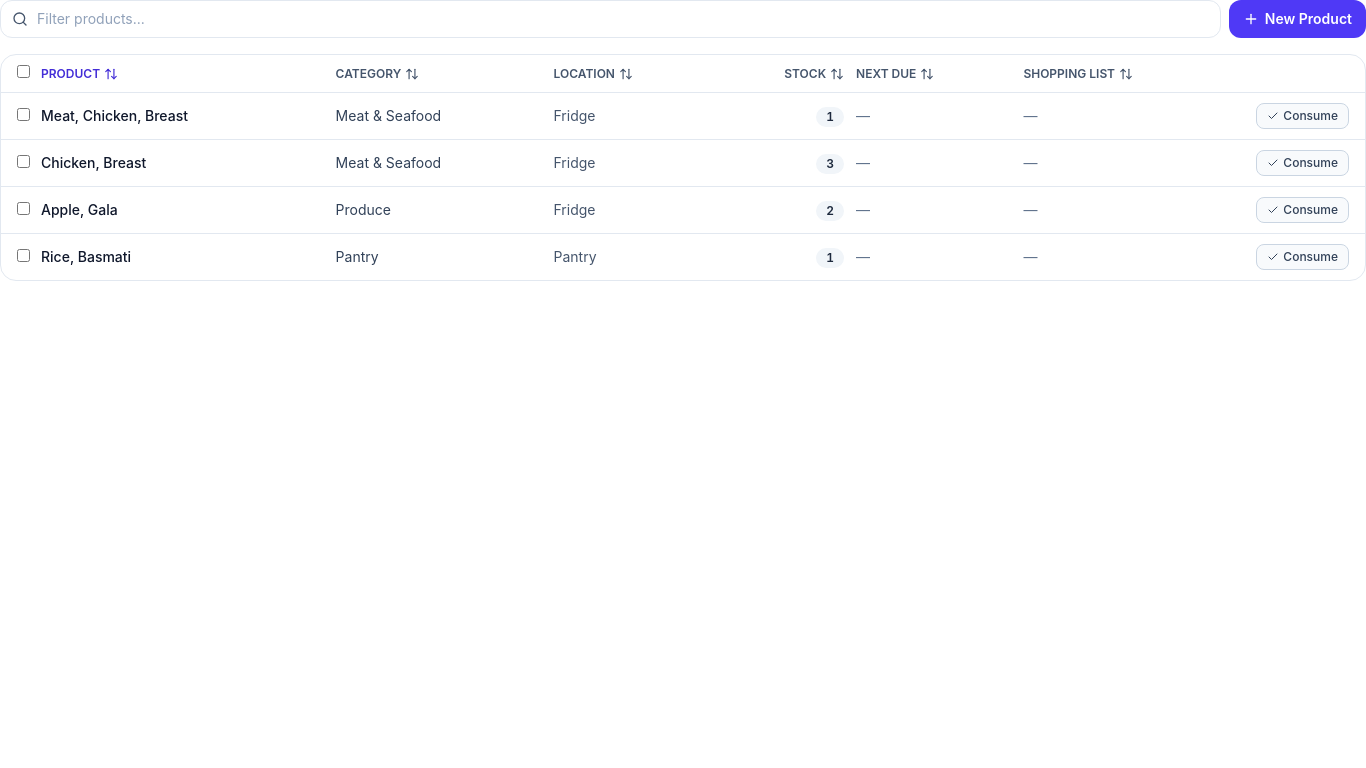
Scenario: ProductsPage desktop table view, sorting, and bulk deletion › supports bulk Reclassify when LLM is enabled with editable review, exclusions, live merge preview, and apply
The image size is (1366, 768).
Click the checkbox named "Select Meat, Chicken, Breast".
click(24, 114)  # box [17,108,30,121]
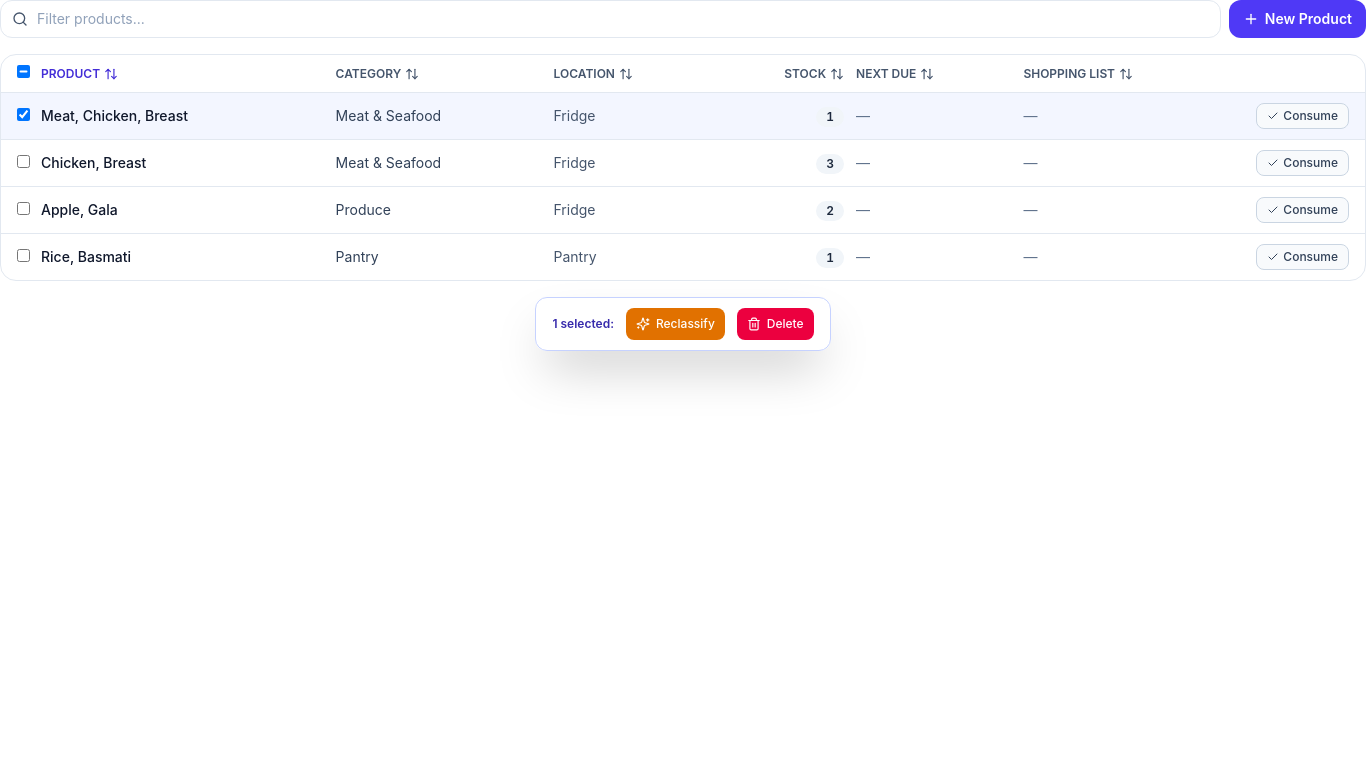
Click the checkbox named "Select Apple, Gala".
click(24, 208)  # box [17,202,30,215]
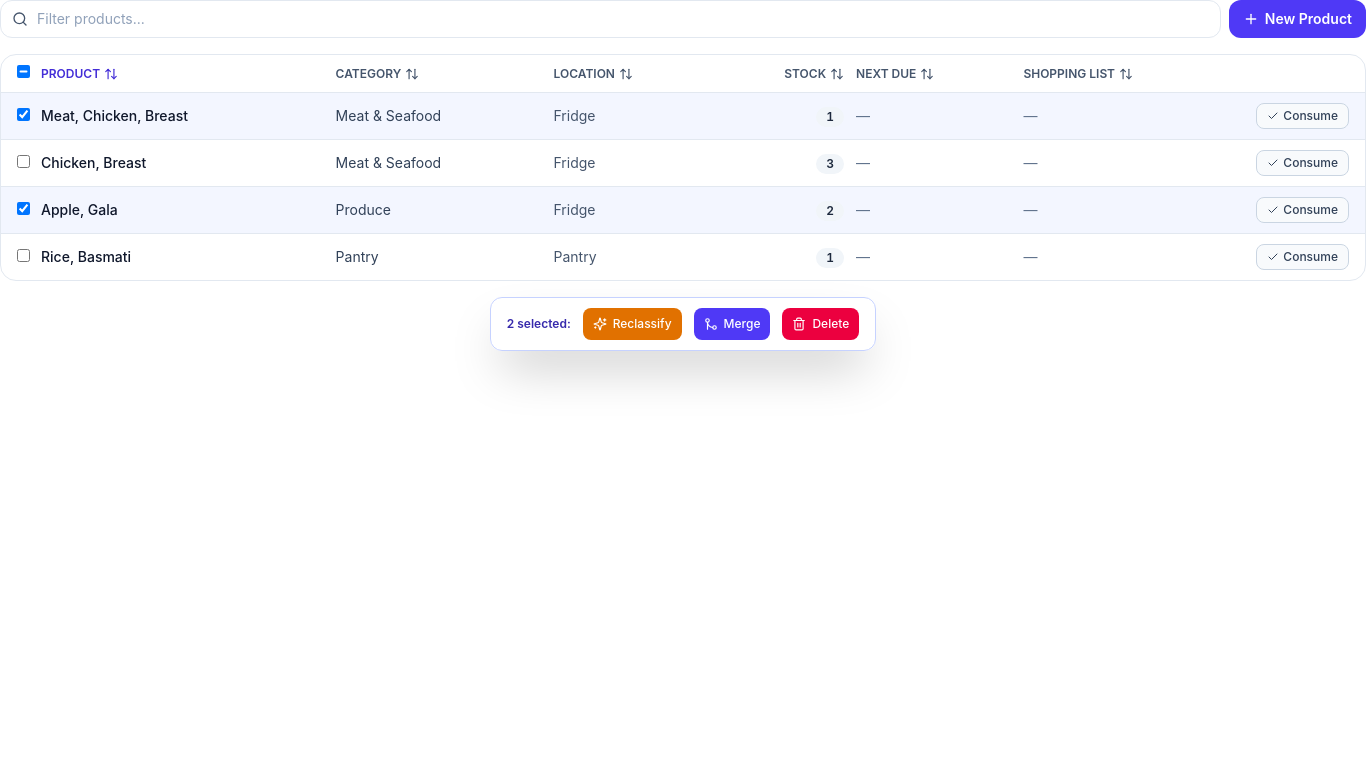
Click the checkbox named "Select Rice, Basmati".
click(24, 256)  # box [17,249,30,262]
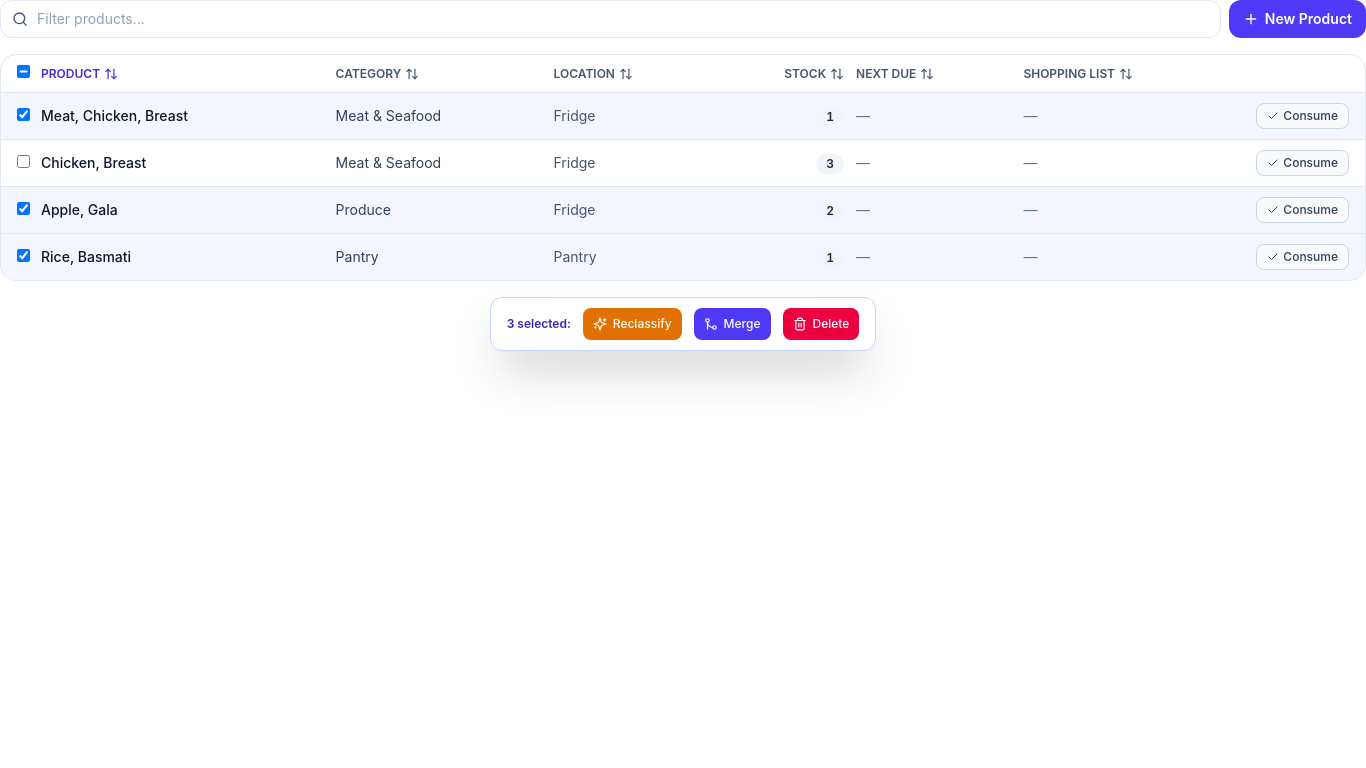
Click the button "Reclassify".
click(632, 324)  # box [583,308,682,340]
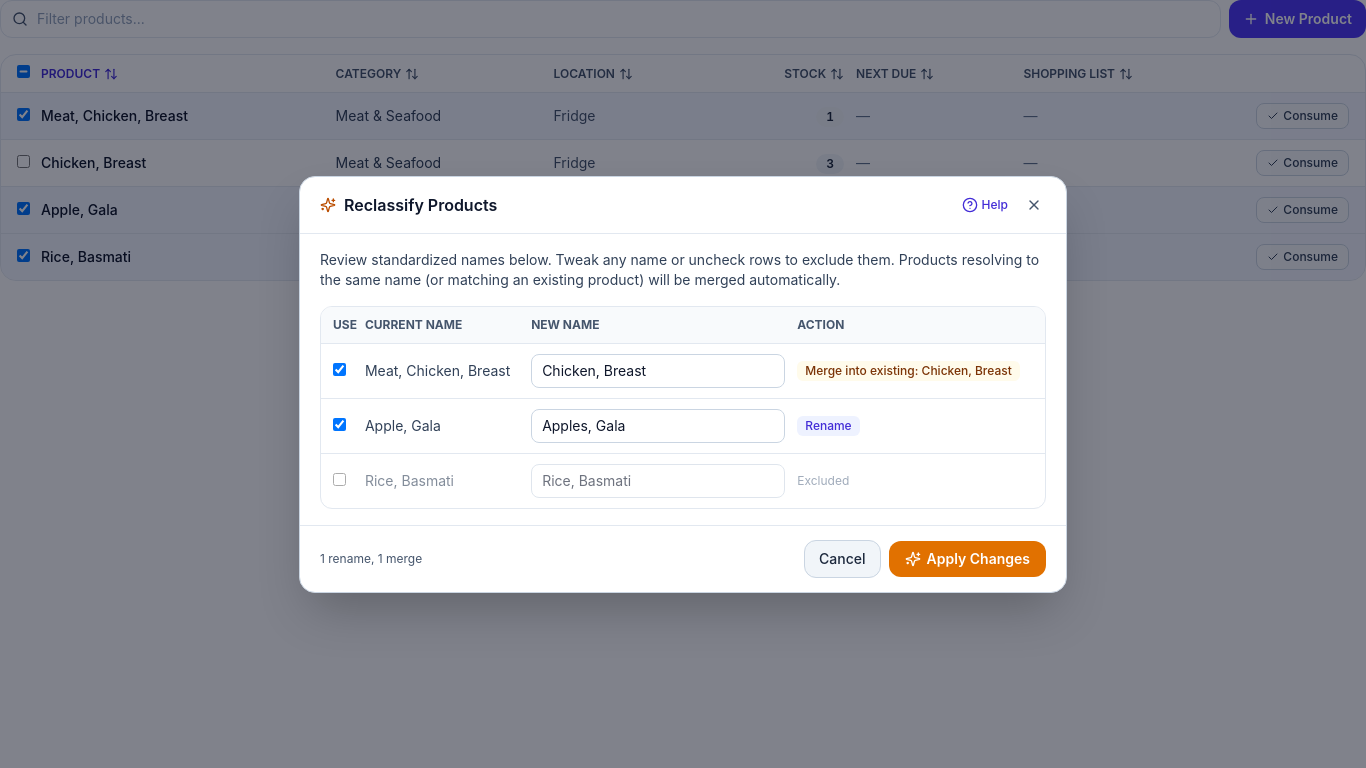
Expected: the field named "New name for Meat, Chicken, Breast" holds "Chicken, Breast", [531,354,785,388]
Expected: the checkbox named "Include Rice, Basmati" is not checked, [333,472,346,486]
Expected: the checkbox named "Include Meat, Chicken, Breast" is checked, [333,362,346,376]
Note: Tweak "Apple, Gala" name
Replace the text in the field named "New name for Apple, Gala" with "Apples, Gala, Organic" at (658, 426), box [531,408,785,442]
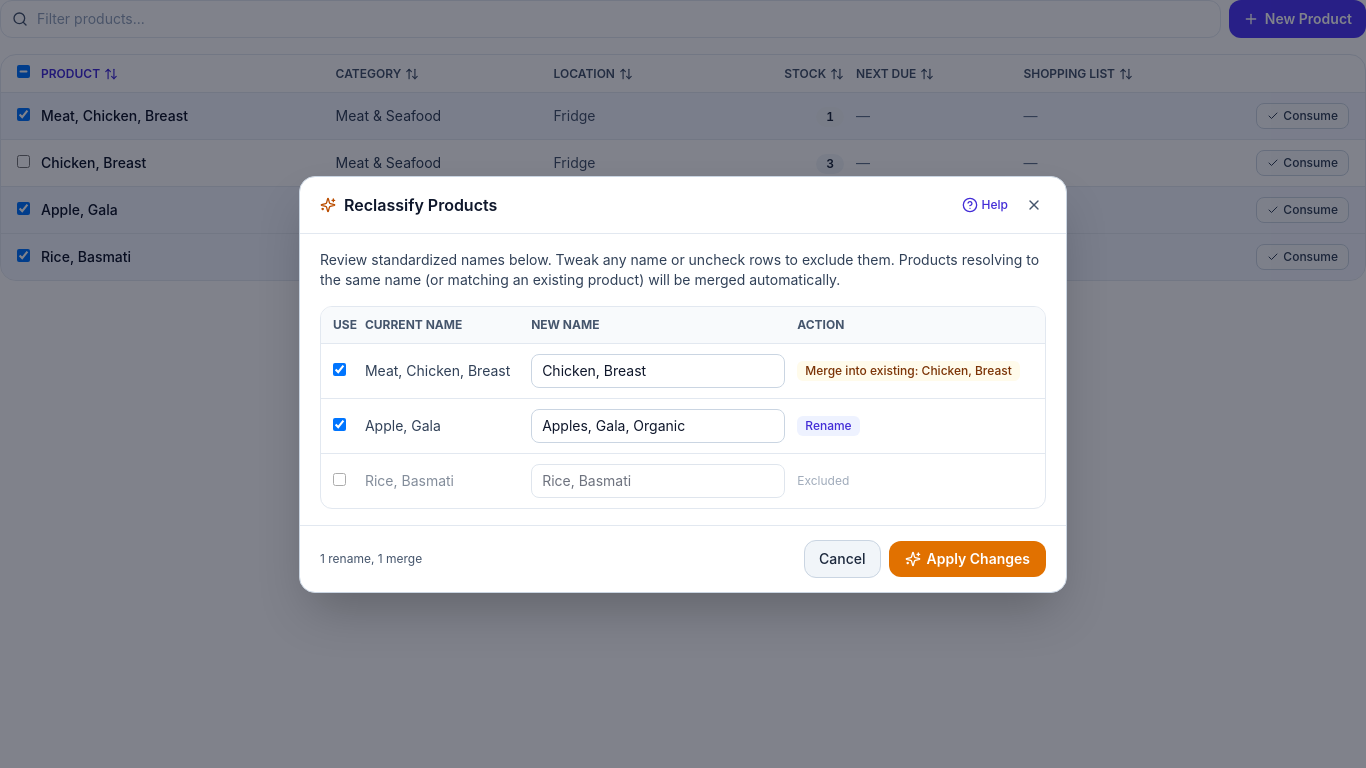
Note: Apply sends only included rows with tweaked names
Click the button "Apply Changes".
click(967, 558)  # box [889,540,1046,576]
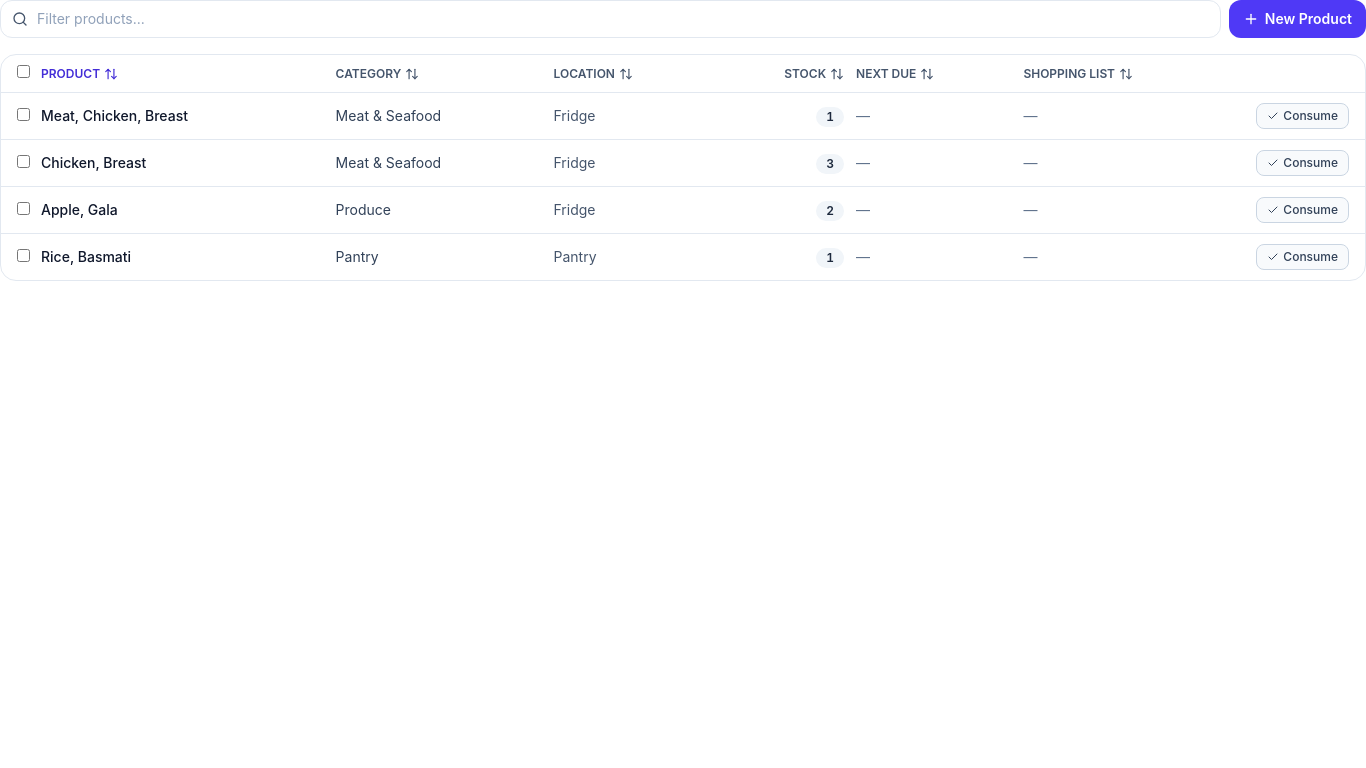
Expected: the heading "Reclassify Products" is gone
Expected: the element with test id "products-bulk-bar" is gone
